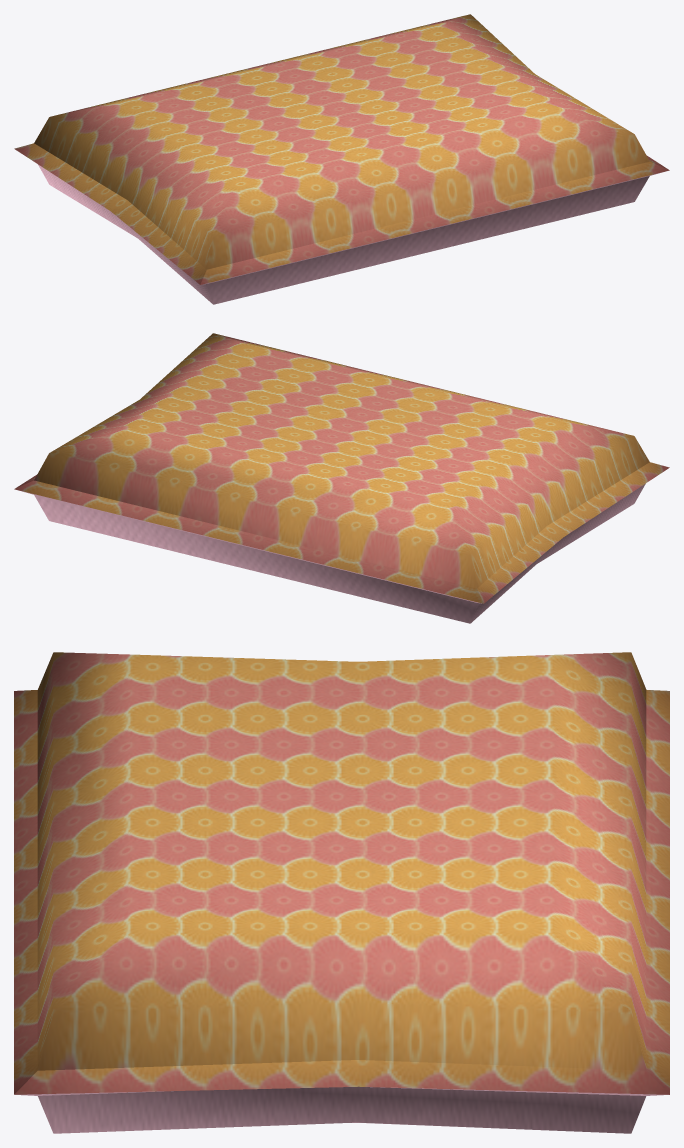
File: Pillow_B.FBX
3 renders of one model, top to bottom at view 1: azimuth 30°, elevation 25°; view 2: azimuth 150°, elevation 25°; view 3: azimuth 270°, elevation 25°, orthographic. The views are drawn at different scales.
Parts seen in each view (by area): view 1: Pillow; view 2: Pillow; view 3: Pillow.
Part boxes in pixels (x1,y1,x2,y2): Pillow: (14,14,669,304); Pillow: (14,333,669,623); Pillow: (14,652,669,1133).
Bounding box in the file's own units: 194 × 41.64 × 133.
